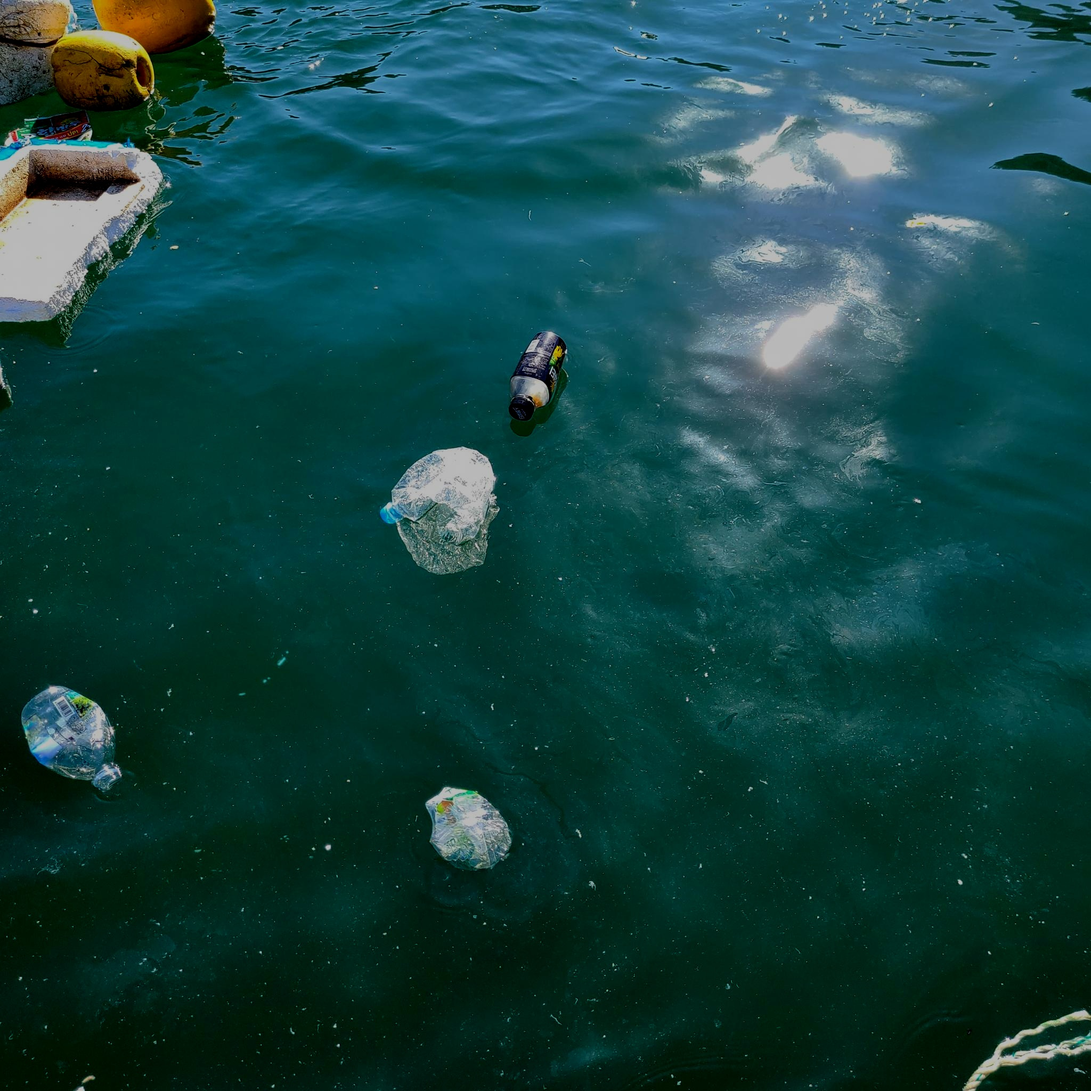sampah_terapung: (1, 140, 164, 322), (381, 447, 495, 545), (22, 687, 123, 793), (962, 1011, 1091, 1091), (52, 31, 155, 112), (1, 1, 75, 105), (425, 787, 513, 871), (92, 1, 217, 55), (509, 332, 568, 422)
